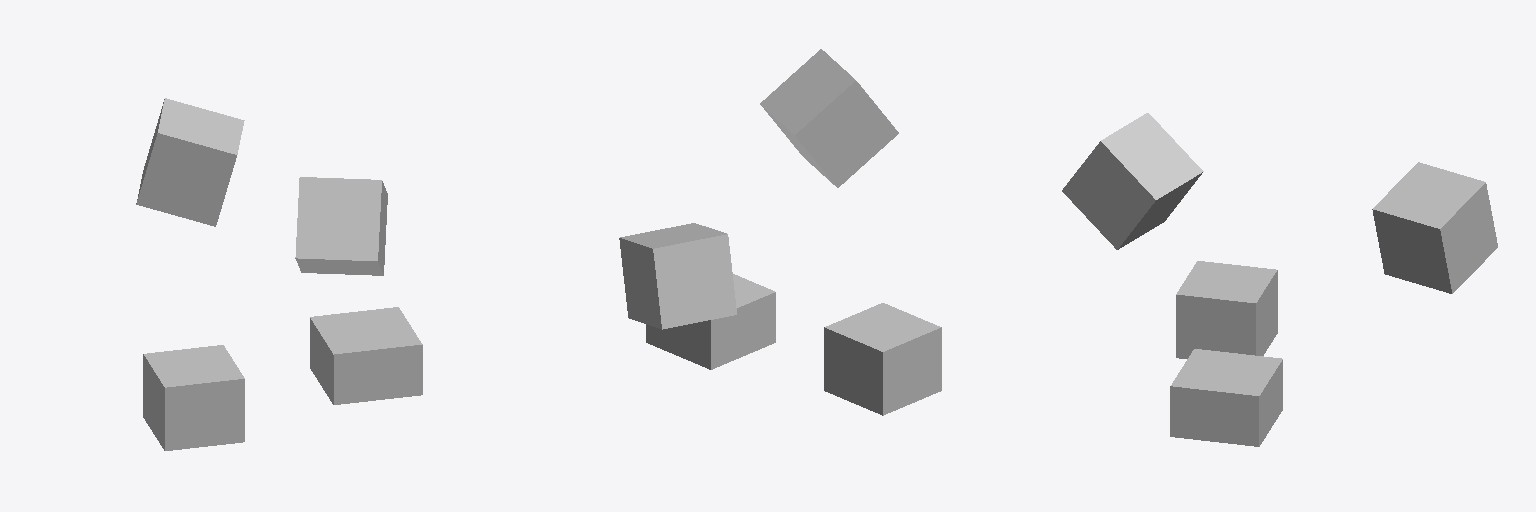
File: Extra_ice.obj
3 views of the same model, side by side, from view 1: azimuth 30°, elevation 25°; view 2: azimuth 150°, elevation 25°; view 3: azimuth 270°, elevation 25° (orthographic).
Bounding box in the file's own units: 4.21 × 4.04 × 6.02.